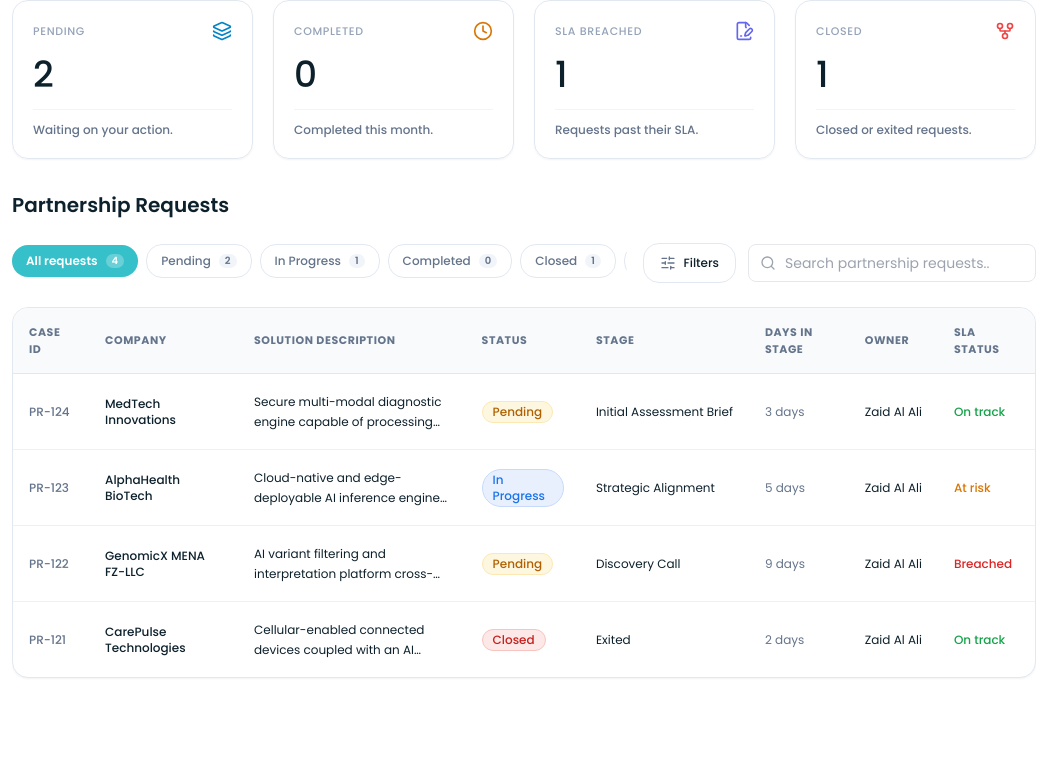
Test: DashboardScreen › filters records via search bar and filter chips
Check: the text "MedTech Innovations" is shown, box [89, 374, 238, 450]
Check: the text "GenomicX MENA FZ-LLC" is shown, box [89, 526, 238, 602]
# Search filter without search button
Type "CarePulse" into the search field with placeholder "Search partnership requests..." at (892, 263), box [748, 244, 1036, 282]
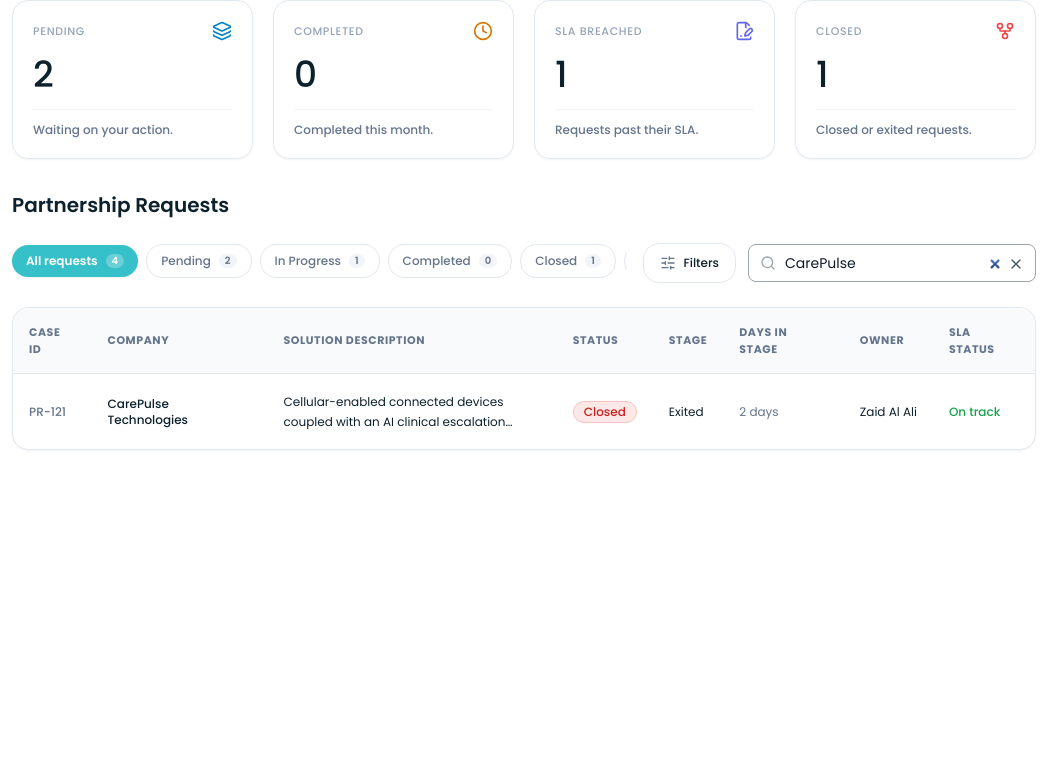
Check: the text "CarePulse Technologies" is shown, box [92, 374, 268, 449]
Check: the text "MedTech Innovations" is gone
# Clear search
Clear the search field with placeholder "Search partnership requests..." at (892, 263), box [748, 244, 1036, 282]
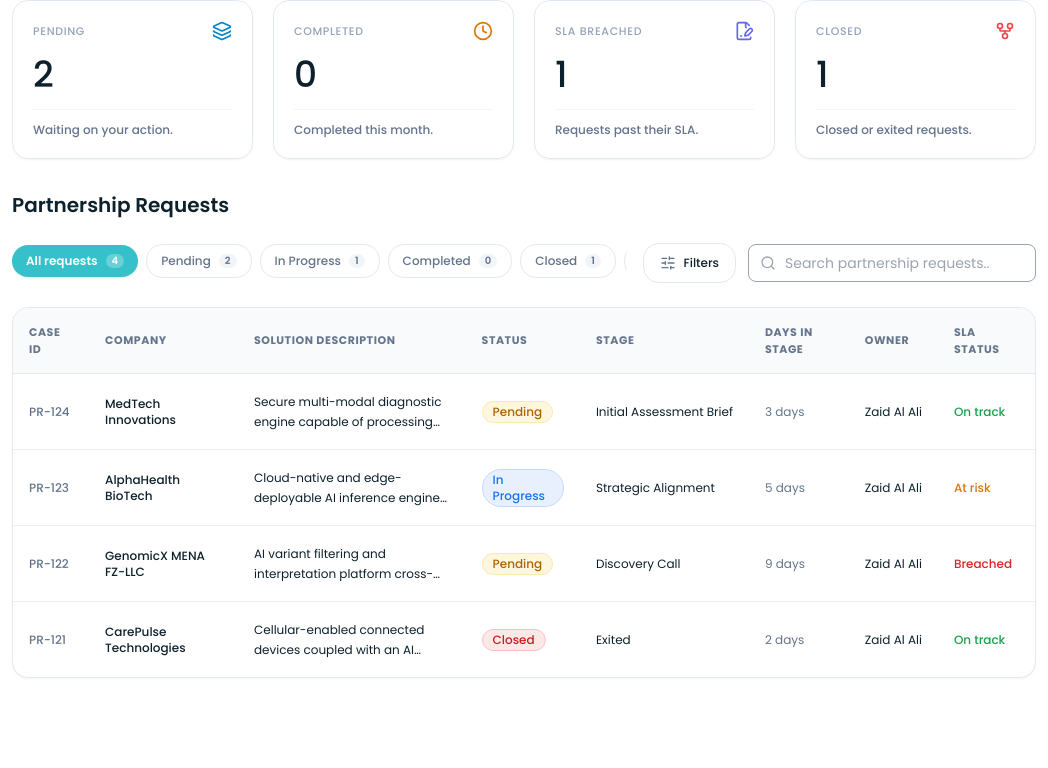
# Filter chip for In Progress
Click the button "In Progress 1" at (320, 261), box [260, 244, 380, 278]
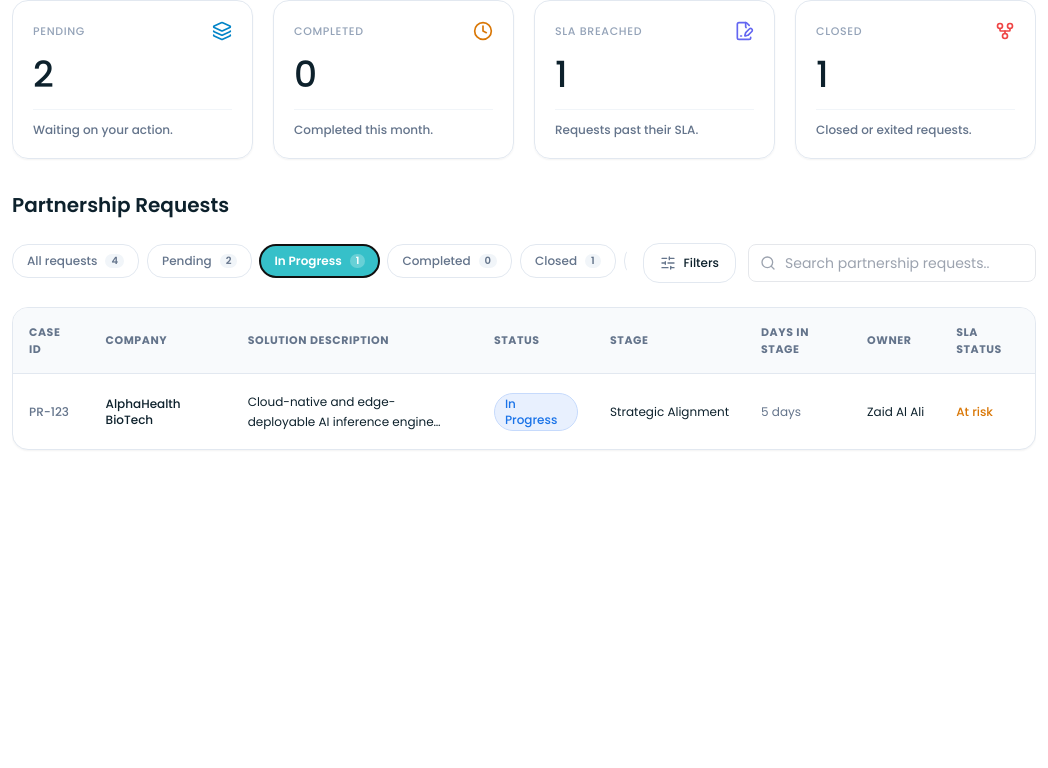
Check: the text "AlphaHealth BioTech" is shown, box [90, 374, 232, 449]
Check: the text "MedTech Innovations" is gone
